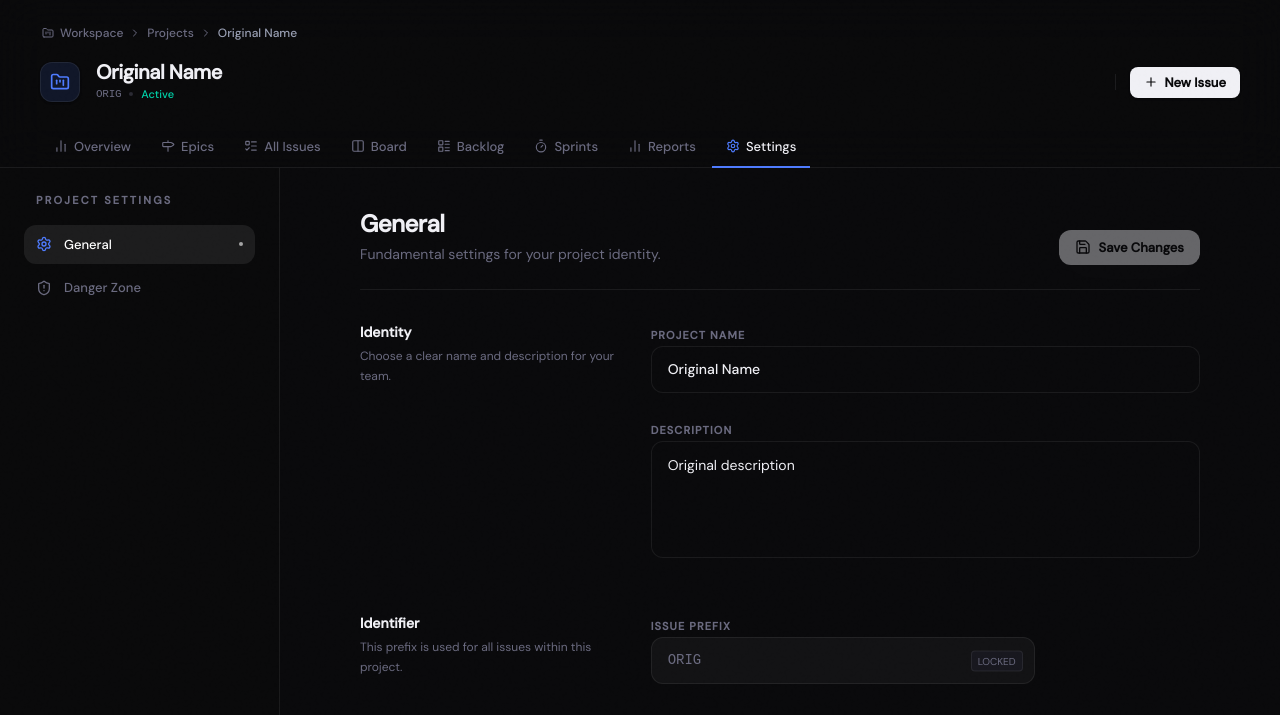
it: ProjectSettingsPage general save (AUD-010 regression) › shows an inline error and keeps edits when the save request fails
Replace the text in the field labelled "Project Name" with "Duplicate Name" at (925,370), box [651,346,1200,393]
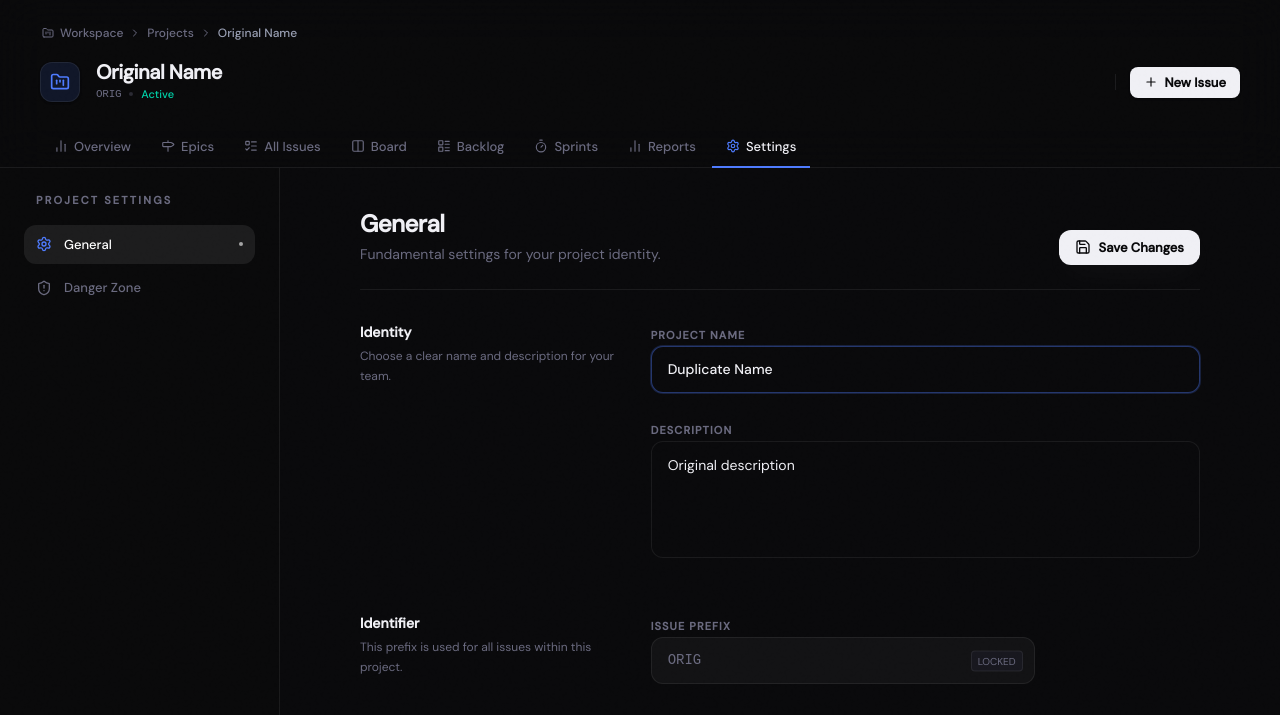
Click the button "Save Changes".
click(1129, 247)  # box [1059,230,1200,265]
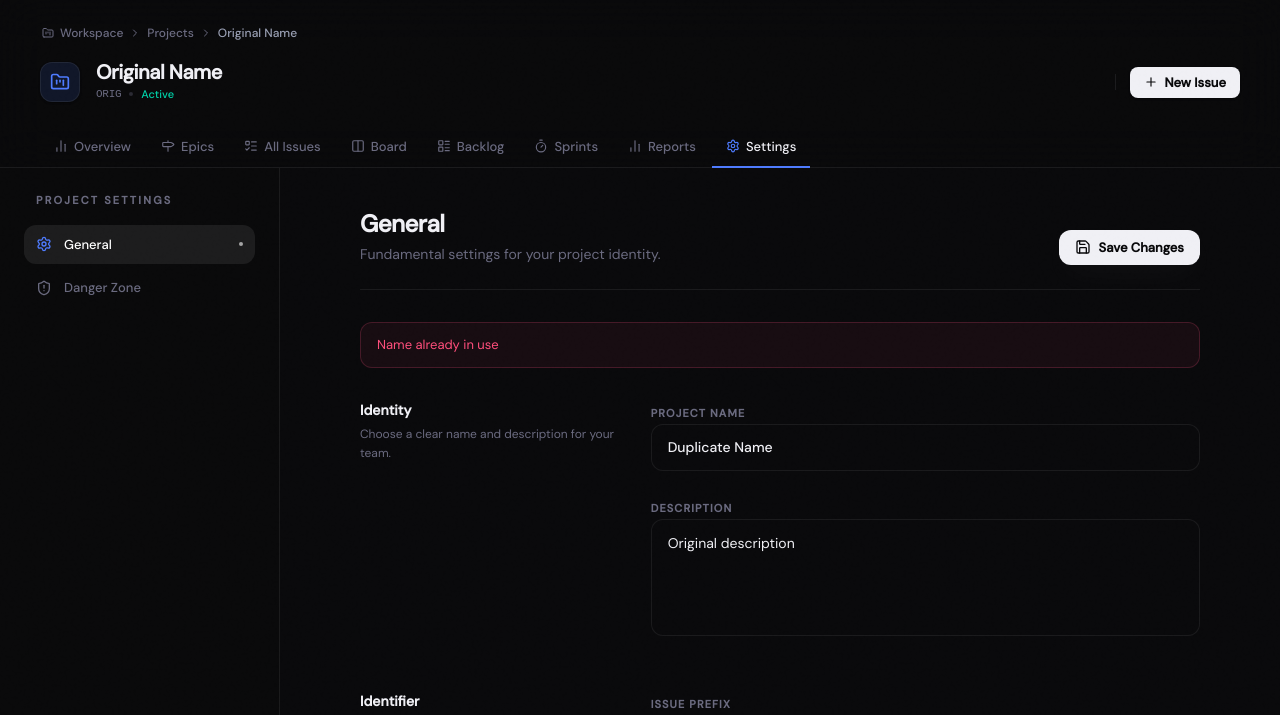
expect the text "Name already in use" is shown: met, box [360,322,1200,368]
